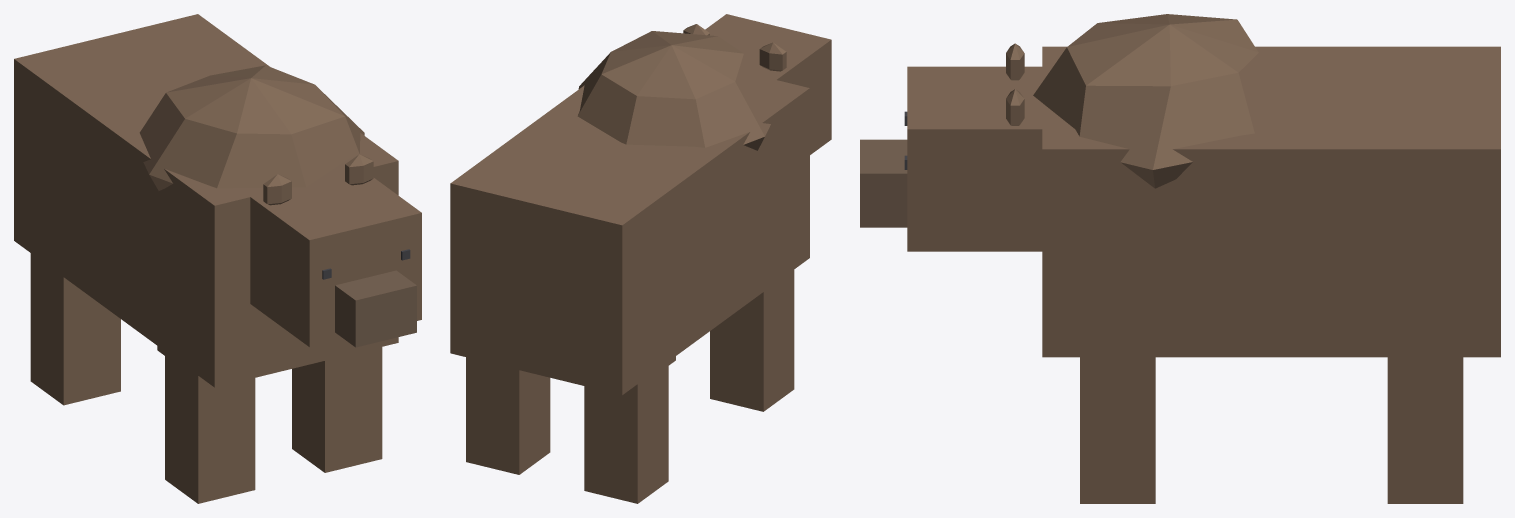
The model's file is bear.glb.
The picture shows the model from 3 angles, left to right: view 1: azimuth 30°, elevation 25°; view 2: azimuth 150°, elevation 25°; view 3: azimuth 270°, elevation 25°; orthographic projection. The views are drawn at different scales.
Parts seen in each view (by area): view 1: bear; view 2: bear; view 3: bear.
Boxes of the visible parts, bbox=[...] form: bear: bbox=[14, 14, 421, 503]; bear: bbox=[450, 14, 831, 503]; bear: bbox=[860, 14, 1500, 503].
Size of the model in its own units: 1.01 by 1.75 by 2.38.
